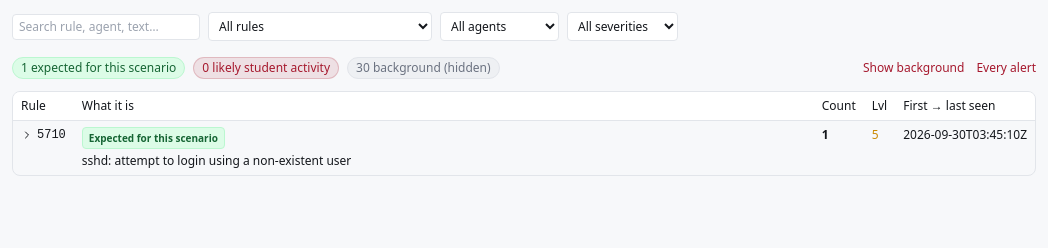
Test: shows the scenario's rule and hides the start-up scan noise by default
This screenshot has width=1048, height=248.
Check: the element with test id "triage-summary" shows "1 expected for this scenario", box 12,57 -> 1036,79
Check: the element with test id "triage-summary" shows "30 background (hidden)", box 12,57 -> 1036,79
Click the button "Show background" at (914, 68), box 863,60 -> 964,76
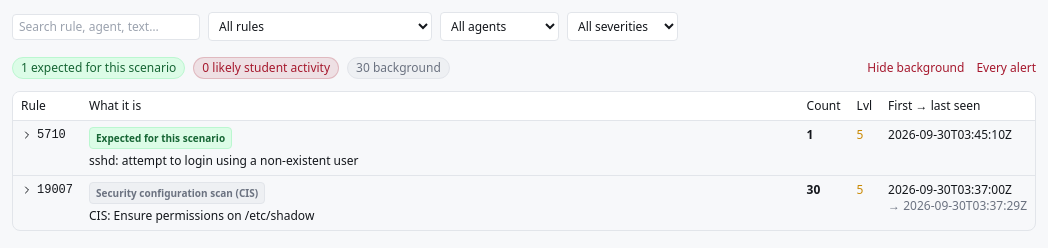
Check: the text "CIS: Ensure permissions on /etc/shadow" is shown, box 89,207 -> 314,224
Check: the text "30" is shown, box 799,176 -> 849,230
